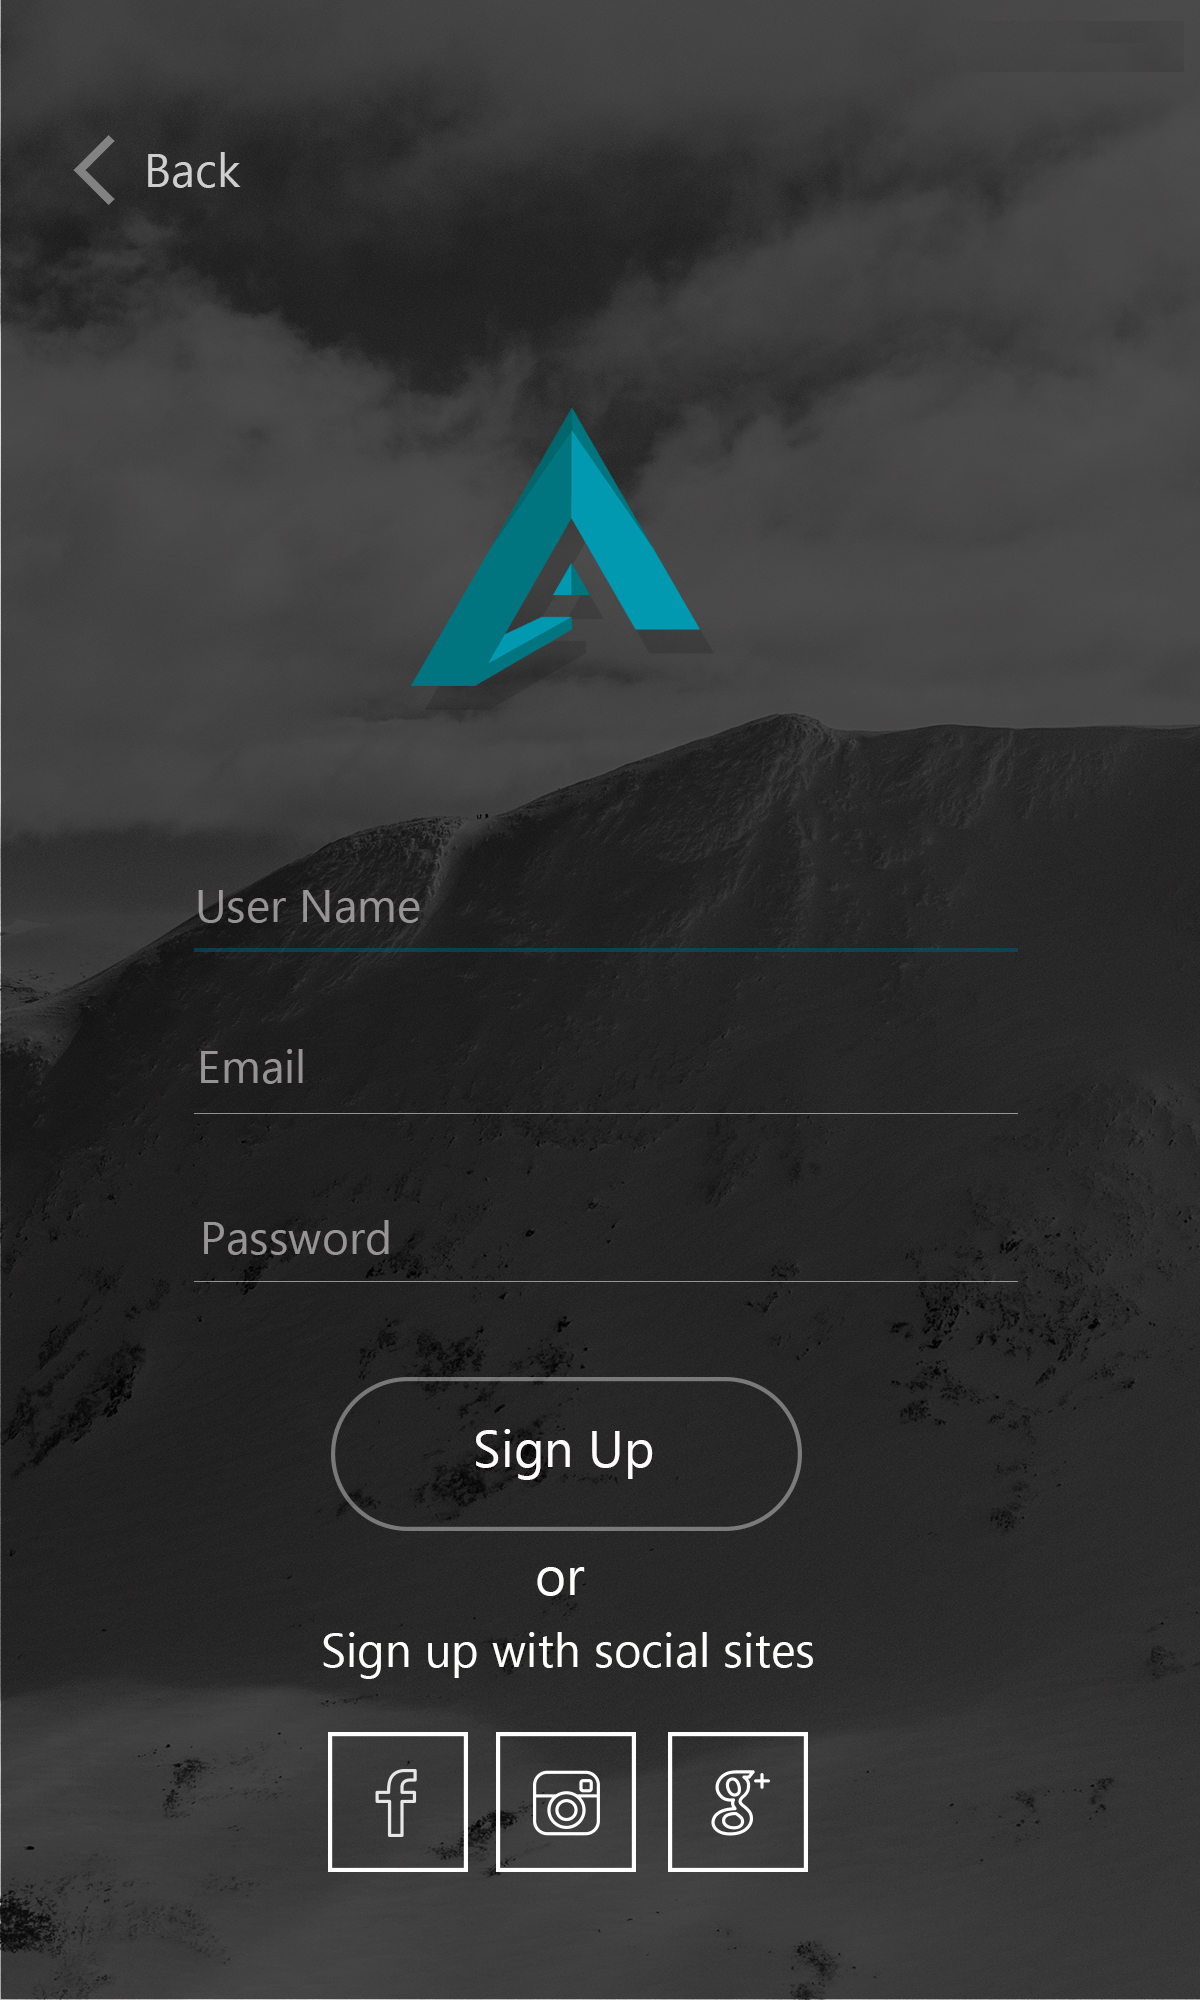BackgroundImage: (1, 1, 1200, 2000)
EditText: (194, 1049, 1019, 1116), (194, 1219, 1019, 1283), (194, 890, 1019, 953)
Icon: (329, 1731, 469, 1873), (669, 1731, 809, 1873), (74, 134, 117, 207)
Image: (411, 407, 701, 689), (496, 1731, 637, 1873)
Text: (323, 1631, 814, 1681), (199, 890, 421, 926), (204, 1219, 390, 1256), (201, 1049, 306, 1086), (149, 151, 241, 190), (537, 1566, 586, 1599)
TextButton: (331, 1376, 803, 1531)
